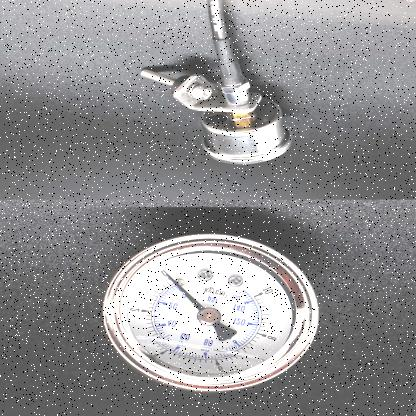needle: (164, 273, 206, 312)
